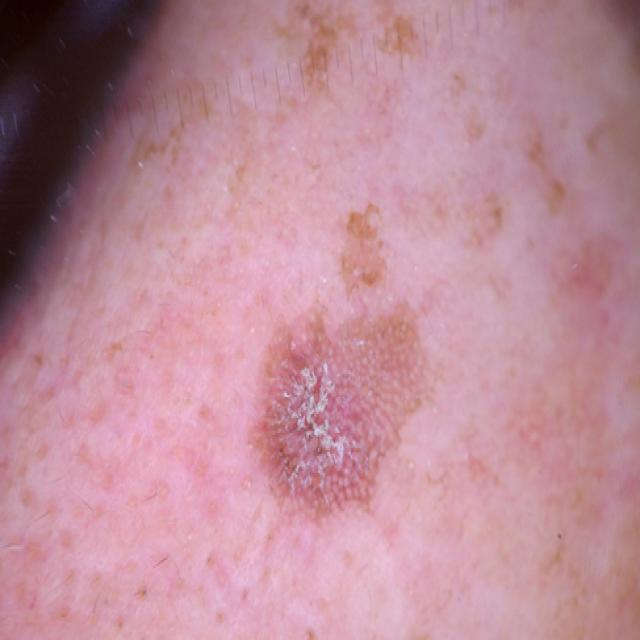Melanoma: (185, 247, 547, 640)
